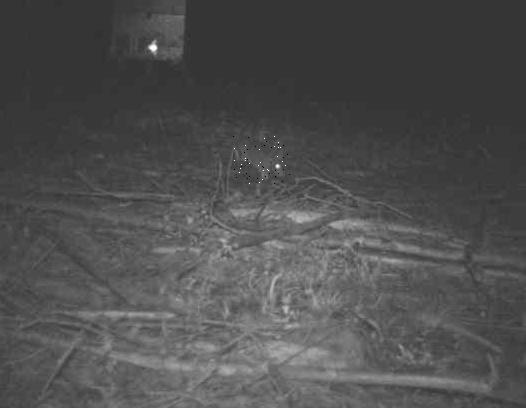Rabbit: (234, 136, 291, 184)
